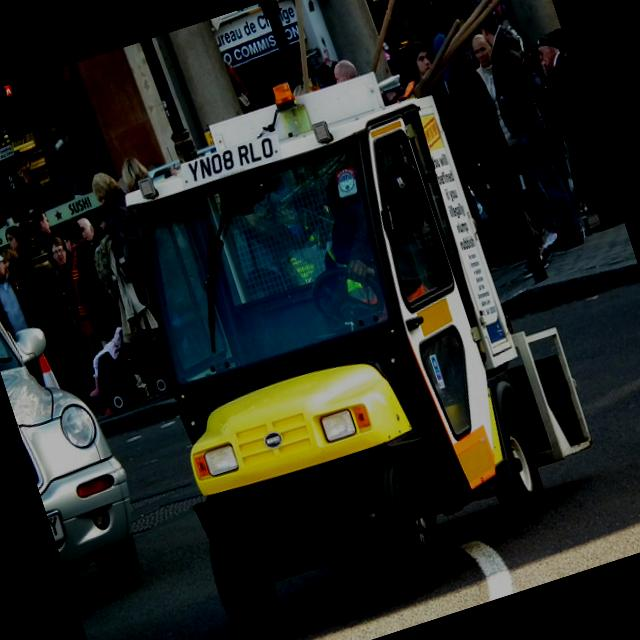Vehicle: (75, 21, 624, 640), (0, 215, 158, 603)
